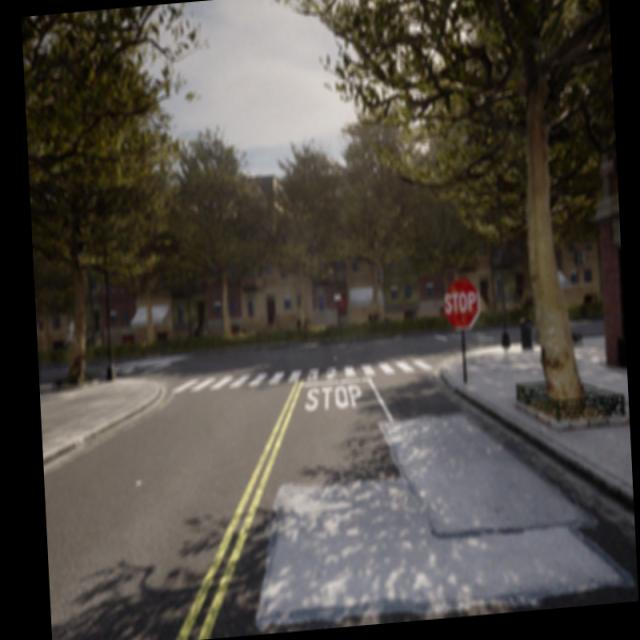stop sign: (440, 274, 482, 332), (443, 288, 478, 316)
